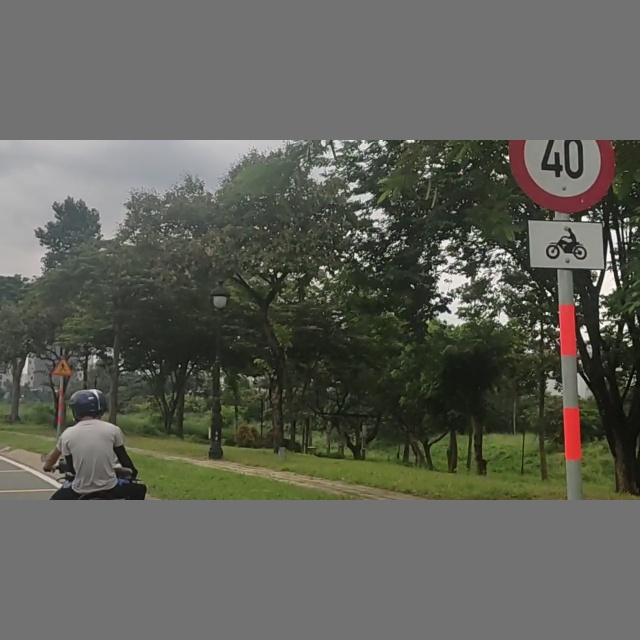P.127*40: (507, 141, 615, 213)
W.224: (52, 355, 74, 377)
